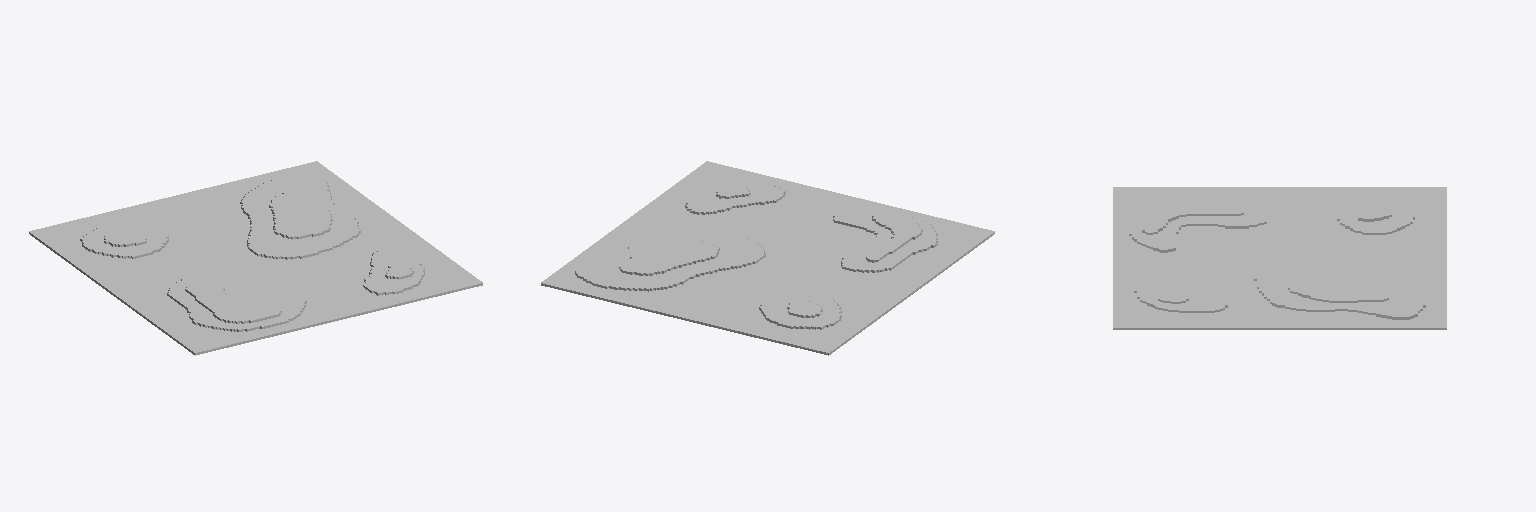
Rendered from Map.obj.
3 views of the same model, side by side, from view 1: azimuth 30°, elevation 25°; view 2: azimuth 150°, elevation 25°; view 3: azimuth 270°, elevation 25° (orthographic).
Visible parts, largest first — view 1: object 1; view 2: object 1; view 3: object 1.
Part boxes in pixels (x1,y1,x2,y2): object 1: (29, 161, 482, 355); object 1: (541, 161, 994, 355); object 1: (1113, 187, 1446, 329).
Bounding box in the file's own units: 12.8 × 0.3 × 12.8.